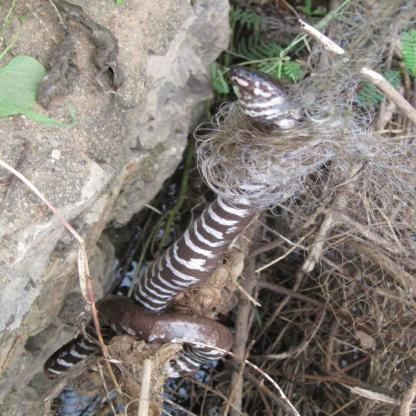Snake: (222, 57, 310, 143)
